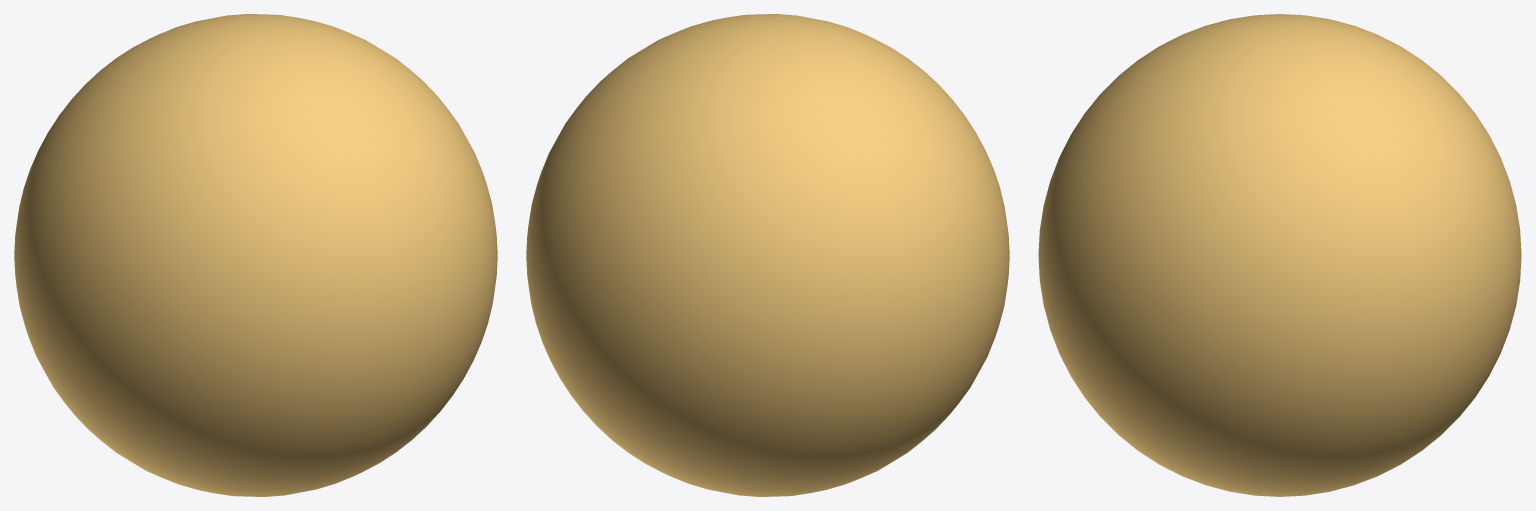
The model's file is body1_visual.obj.
The picture shows the model from 3 angles, left to right: view 1: azimuth 30°, elevation 25°; view 2: azimuth 150°, elevation 25°; view 3: azimuth 270°, elevation 25°; orthographic projection.
Parts seen in each view (by area): view 1: Body1; view 2: Body1; view 3: Body1.
Boxes of the visible parts, x1,y1,x2,y2 form: Body1: (14,14,497,496); Body1: (526,14,1009,496); Body1: (1038,14,1521,496).
Bounding box in the file's own units: 8 × 8 × 8.
